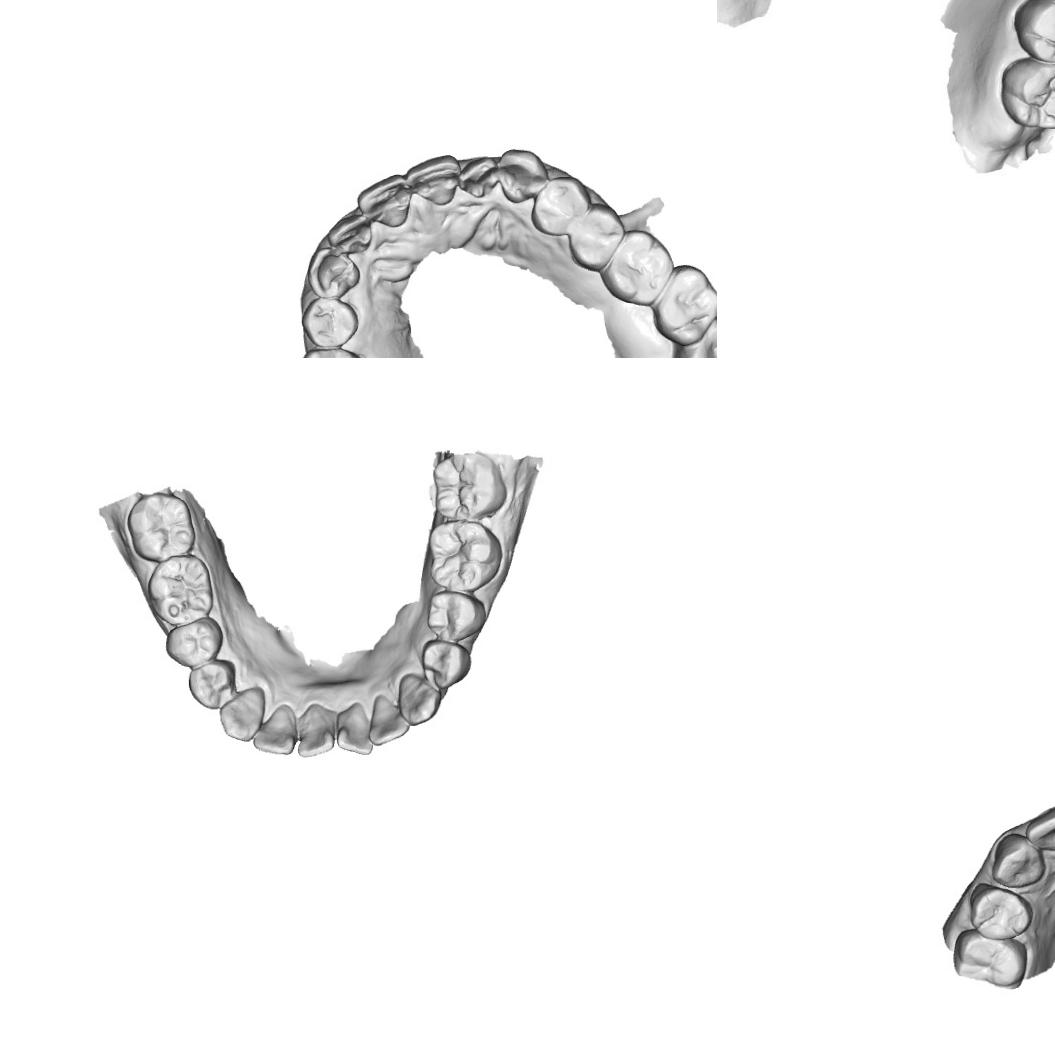canine: (989, 832, 1048, 889), (306, 246, 361, 300), (497, 147, 549, 204), (218, 686, 266, 744), (397, 672, 443, 726)
incisor: (402, 153, 463, 206), (356, 174, 412, 228), (252, 702, 298, 756), (367, 693, 410, 746), (295, 702, 335, 758), (334, 701, 374, 756), (325, 212, 372, 254), (456, 156, 500, 199), (1022, 803, 1055, 853)
molar: (600, 229, 676, 308), (650, 262, 717, 346), (428, 518, 503, 592), (430, 452, 508, 522), (146, 552, 215, 629), (125, 492, 196, 564), (998, 58, 1055, 132), (1015, 0, 1055, 62), (671, 314, 717, 358)
premolar: (950, 927, 1028, 989), (567, 201, 627, 272), (528, 174, 592, 238), (967, 882, 1033, 942), (425, 589, 488, 642), (164, 616, 224, 670), (299, 297, 360, 348), (420, 636, 472, 690), (186, 658, 236, 710), (297, 346, 369, 358)
